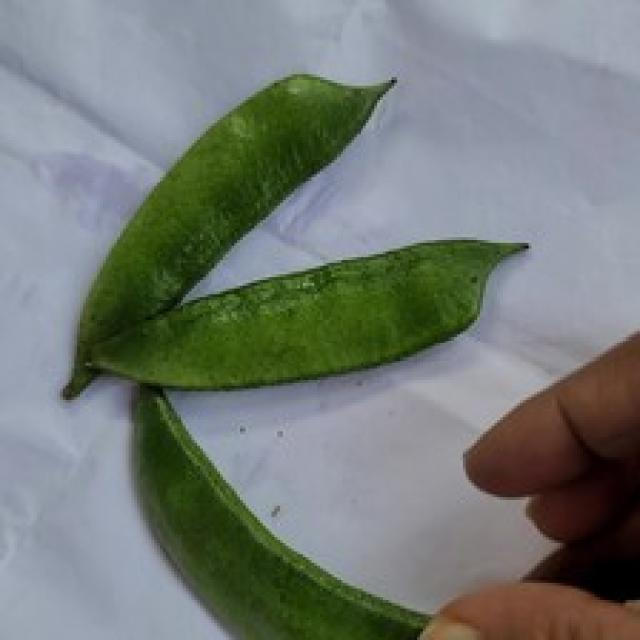Bean: (54, 71, 396, 386), (130, 379, 424, 640), (100, 240, 534, 386)
